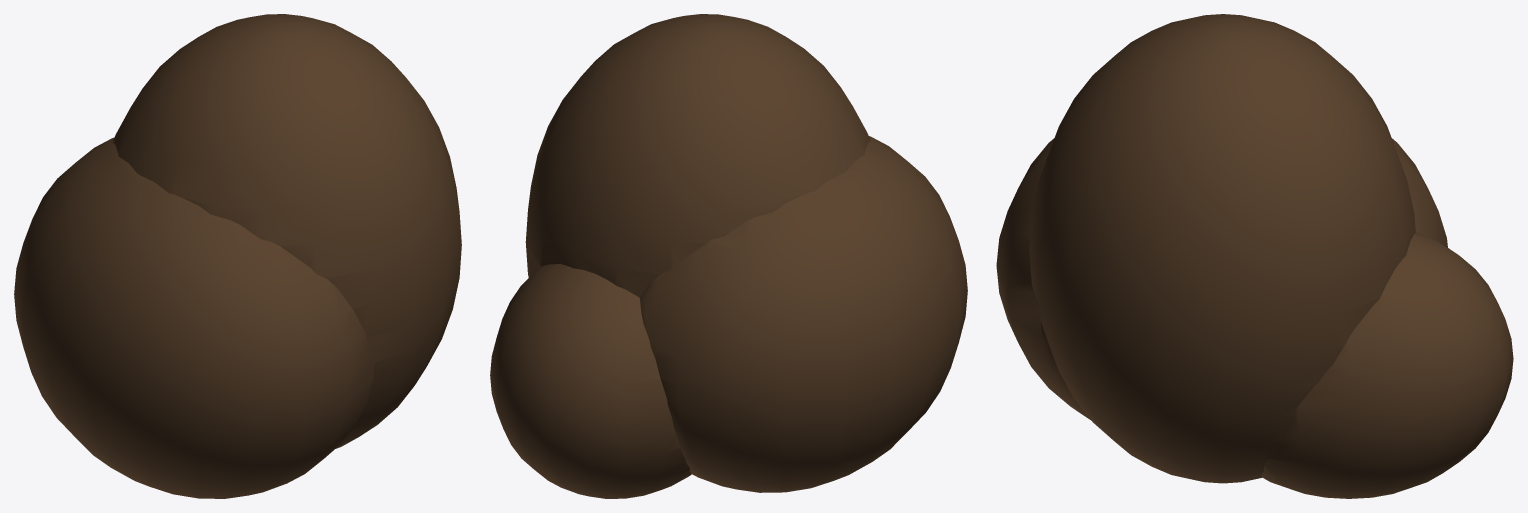
The model's file is Rock1V1.fbx.
The picture shows the model from 3 angles, left to right: view 1: azimuth 30°, elevation 25°; view 2: azimuth 150°, elevation 25°; view 3: azimuth 270°, elevation 25°; orthographic projection. The views are drawn at different scales.
Parts seen in each view (by area): view 1: pSphere7; view 2: pSphere7; view 3: pSphere7.
Part boxes in pixels (x1,y1,x2,y2): pSphere7: (14,14,461,498); pSphere7: (490,14,967,498); pSphere7: (996,14,1513,498).
Size of the model in its own units: 1.18 by 1.24 by 1.29.
